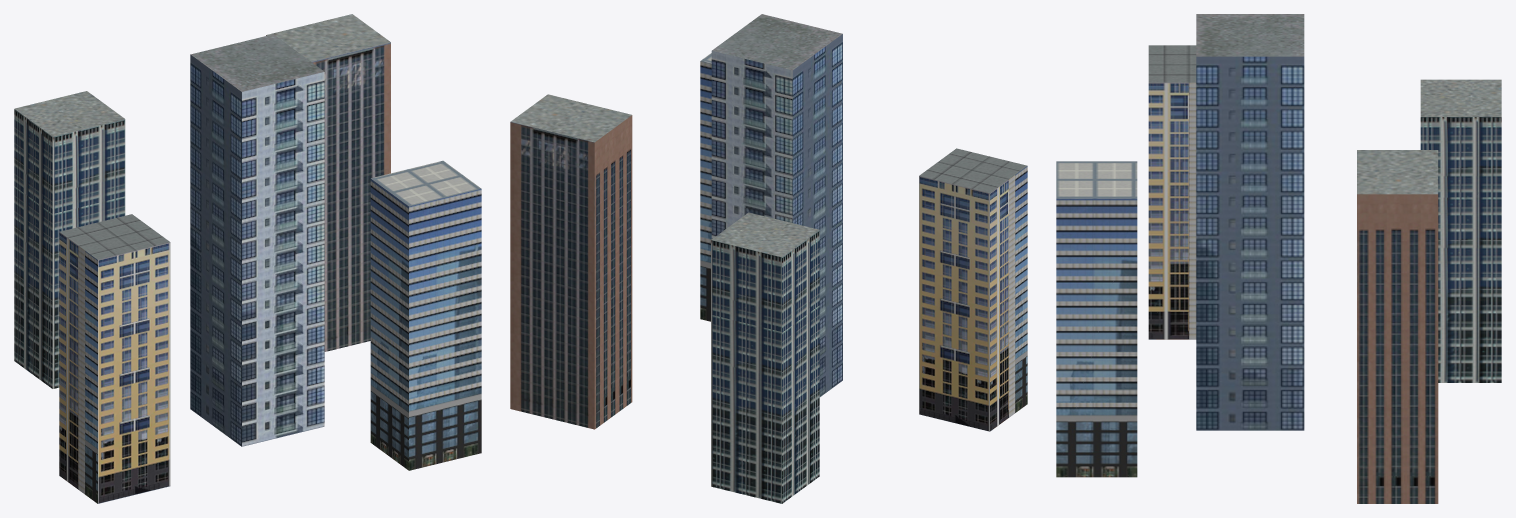
Rendered from duoge_qian04_init.FBX.
3 renders of one model, left to right at view 1: azimuth 30°, elevation 25°; view 2: azimuth 150°, elevation 25°; view 3: azimuth 270°, elevation 25°, orthographic. The views are drawn at different scales.
Visible parts, largest first — view 1: duoge_qian04_init; view 2: duoge_qian04_init; view 3: duoge_qian04_init.
Boxes of the visible parts, box(x1,y1,x2,y2) form: duoge_qian04_init: box(14, 14, 481, 503); duoge_qian04_init: box(510, 14, 1027, 503); duoge_qian04_init: box(1056, 14, 1501, 503).
Size of the model in its own units: 14115 by 12211 by 13181.
